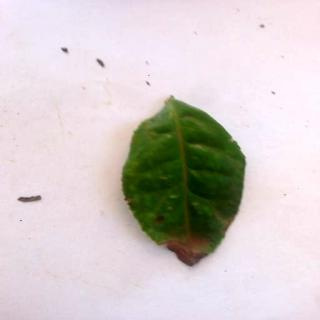Brown Blight: (123, 95, 248, 269)
